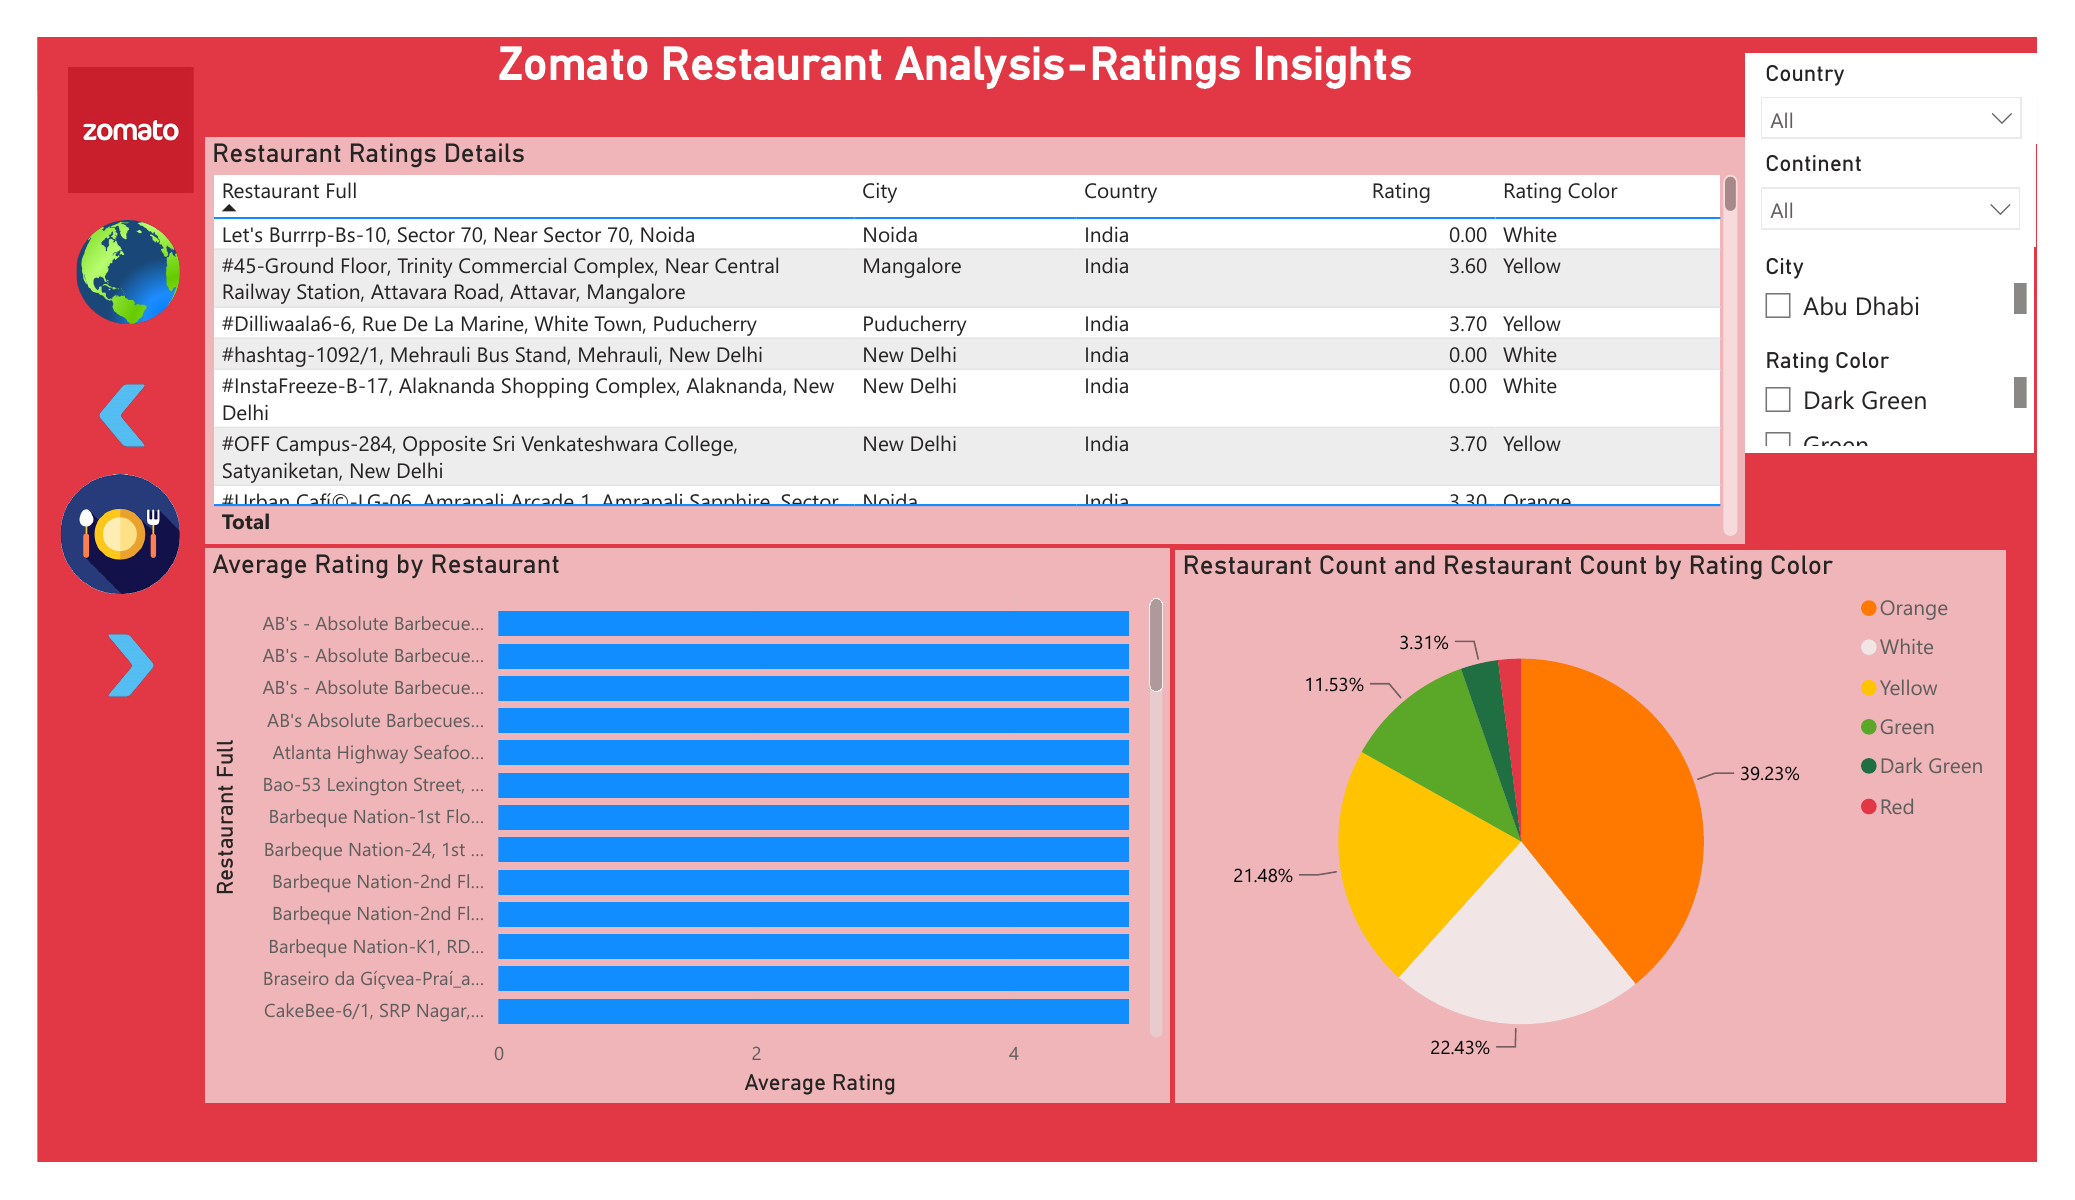

What the dashboard file says about the page in this screenshot:
{"tool":"powerbi","page":{"name":"Ratings Analysis","canvas":[1280,720],"ordinal":1},"visuals":[{"type":"textbox","title":"Zomato Restaurant Analysis-Ratings Insights","box":[289.8,0,819.3,116.6],"z":0},{"type":"slicer","fields":{"Values":["Dim_Country.Country"]},"box":[1093,9.6,187.1,58.6],"z":1000},{"type":"slicer","fields":{"Values":["Dim_Country.Continent"]},"box":[1093,68.4,186,66],"z":2000},{"type":"slicer","fields":{"Values":["Fact_Restaurants.City"]},"box":[1093,134,185.5,60],"z":3000},{"type":"slicer","fields":{"Values":["Fact_Restaurants.Rating Color"]},"box":[1093,193.7,185.5,72.7],"z":4000},{"type":"barChart","title":"Average Rating by Restaurant","fields":{"Y":["Fact_Restaurants.Average Rating"],"Category":["Fact_Restaurants.Restaurant Full"]},"box":[107.3,327.3,618.2,354.5],"z":5000},{"type":"tableEx","title":"Restaurant Ratings Details","fields":{"Values":["Fact_Restaurants.Restaurant Full","Fact_Restaurants.City","Dim_Country.Country","Fact_Restaurants.Rating","Fact_Restaurants.Rating Color"]},"box":[107,63.6,986,260.2],"z":6000},{"type":"pieChart","title":"Restaurant Count and Restaurant Count by Rating Color","fields":{"Category":["Fact_Restaurants.Rating Color"],"Y":["Fact_Restaurants.Restaurant Count"]},"box":[728,328,532,354],"z":7000},{"type":"image","box":[25.5,112.7,65.5,74.5],"z":8000},{"type":"image","box":[0,221.8,107.3,40],"z":9000},{"type":"image","box":[14.5,276.4,76.4,83.6],"z":10000},{"type":"image","box":[0,381.8,120,40],"z":11000},{"type":"image","box":[0,19.3,120.5,80],"z":12000}]}

Visuals, with their boxes on the page's 1280x720 design canvas (x1, y1, x2, y2). These are canvas units, not pixel positions in the 2075x1200 screenshot, which may show the page scaled, cropped or inside an application window:
"Zomato Restaurant Analysis-Ratings Insights" textbox: rect(290, 0, 1109, 117)
slicer - Dim_Country.Country: rect(1093, 10, 1280, 68)
slicer - Dim_Country.Continent: rect(1093, 68, 1279, 134)
slicer - Fact_Restaurants.City: rect(1093, 134, 1278, 194)
slicer - Fact_Restaurants.Rating Color: rect(1093, 194, 1278, 266)
"Average Rating by Restaurant" barChart: rect(107, 327, 726, 682)
"Restaurant Ratings Details" tableEx: rect(107, 64, 1093, 324)
"Restaurant Count and Restaurant Count by Rating Color" pieChart: rect(728, 328, 1260, 682)
image: rect(26, 113, 91, 187)
image: rect(0, 222, 107, 262)
image: rect(14, 276, 91, 360)
image: rect(0, 382, 120, 422)
image: rect(0, 19, 120, 99)
